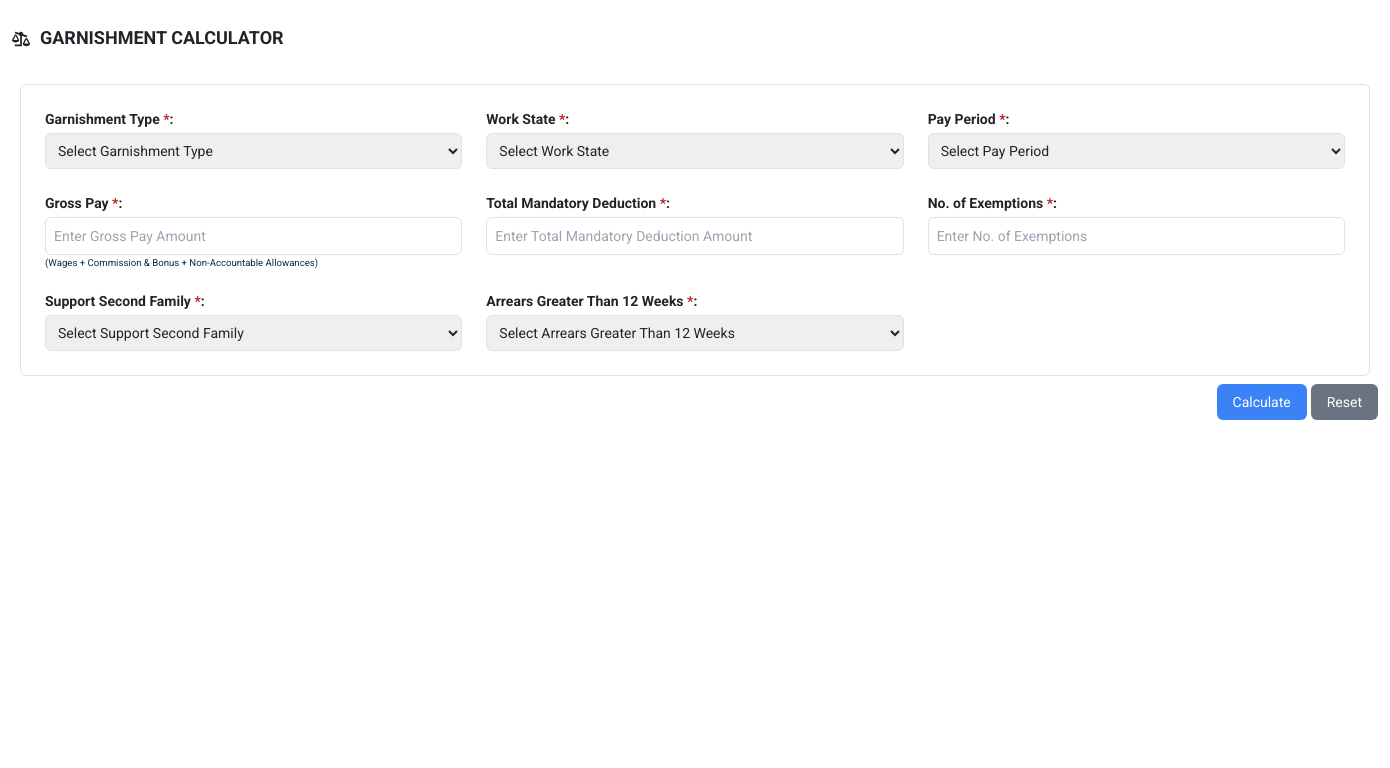
Test: Garnishment2 Component › resets the form when reset button is clicked
// Fill in some fields
Select "Child Support" in the dropdown labelled "Garnishment Type *:" at (254, 151), box [45, 133, 462, 169]
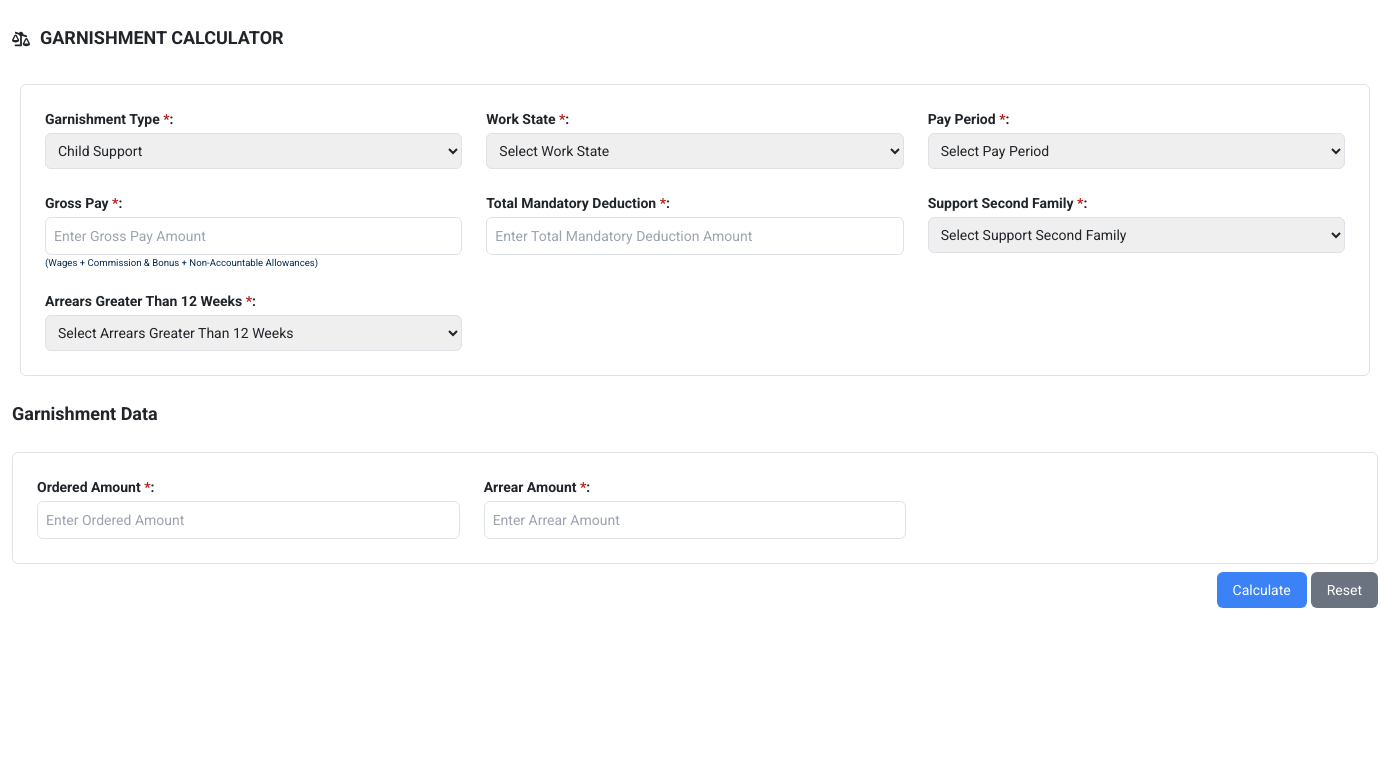
Type "2000" into the number field labelled "Gross Pay *:" at (254, 236), box [45, 217, 462, 255]
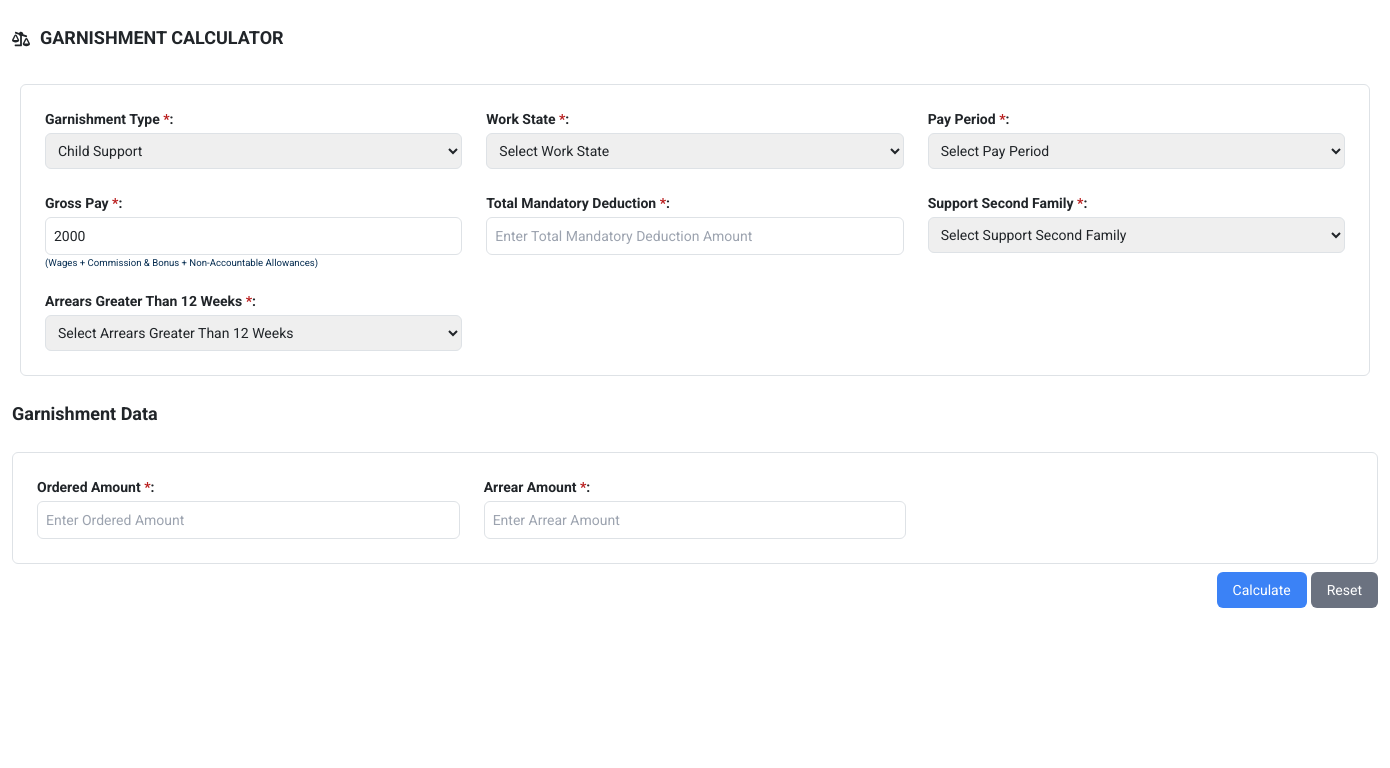
// Click reset button
Click the button "Reset" at (1344, 590), box [1311, 572, 1378, 608]
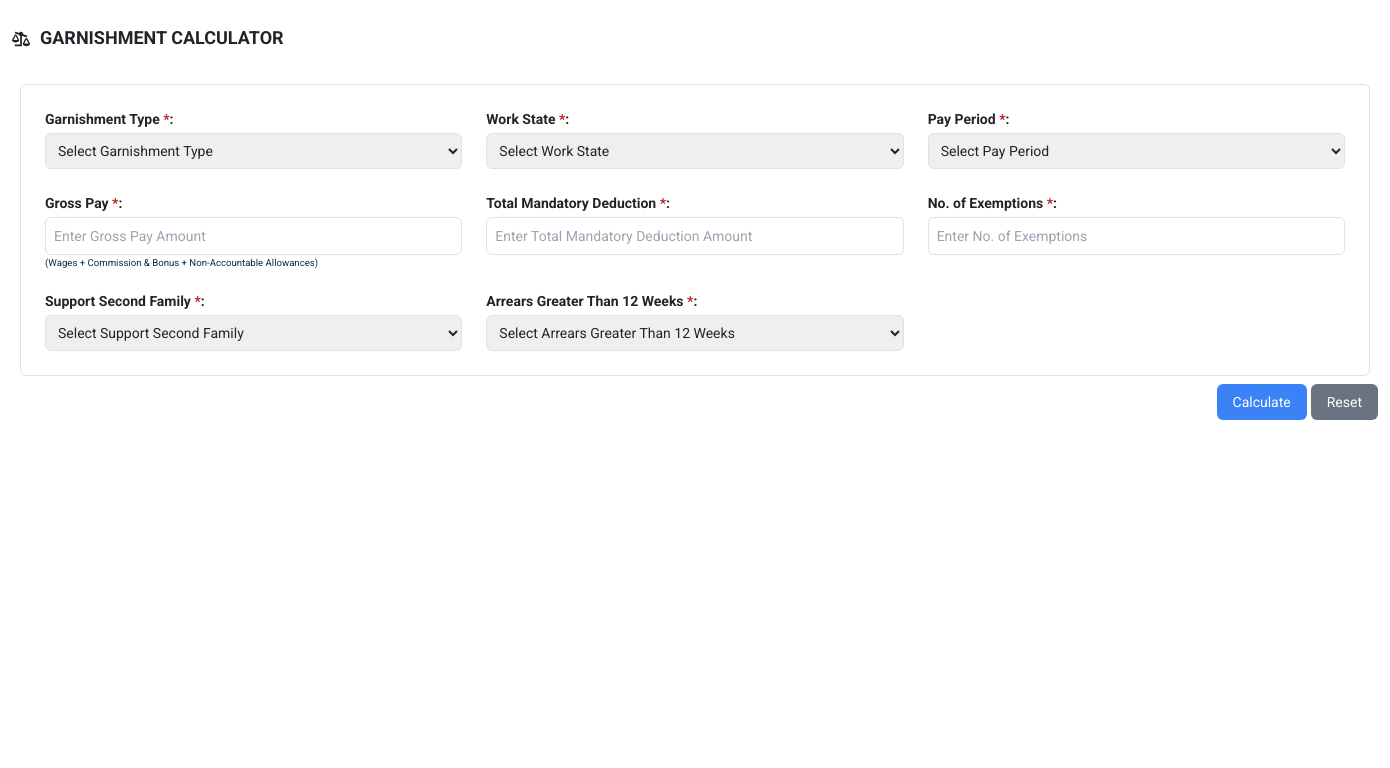
Expected: the number field labelled "Gross Pay *:" is empty, [45, 217, 462, 255]
